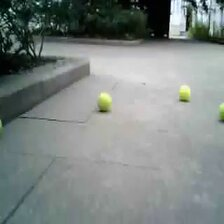tennis: (97, 93, 112, 110), (177, 85, 190, 101), (218, 101, 224, 122)
